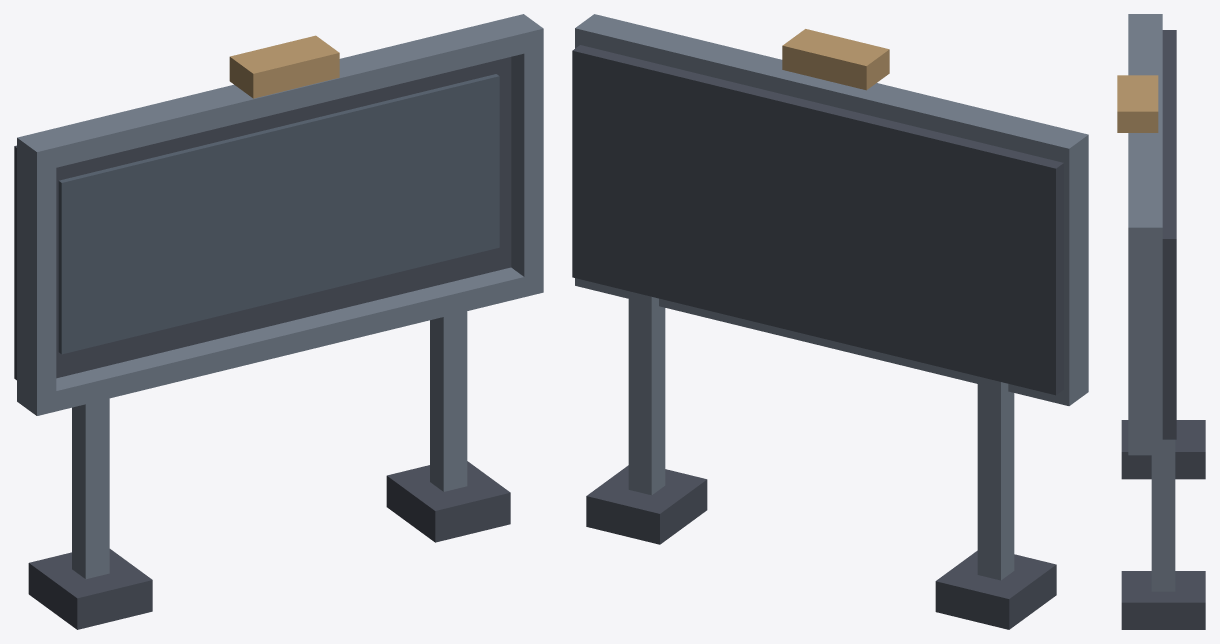
The model's file is gotham_billboard.glb.
3 renders of one model, left to right at view 1: azimuth 30°, elevation 25°; view 2: azimuth 150°, elevation 25°; view 3: azimuth 270°, elevation 25°, orthographic. The views are drawn at different scales.
Visible parts, largest first — view 1: Billboard_Display, Billboard back, Billboard horizontal frame.001, Billboard horizontal frame, Billboard vertical frame, Billboard vertical frame.001, Billboard foot, Billboard support, Billboard foot.001, Billboard support.001, Billboard top light; view 2: Billboard back, Billboard horizontal frame.001, Billboard support, Billboard support.001, Billboard vertical frame, Billboard foot, Billboard foot.001, Billboard top light, Billboard horizontal frame; view 3: Billboard vertical frame.001, Billboard horizontal frame.001, Billboard back, Billboard foot.001, Billboard support.001, Billboard foot, Billboard top light, Billboard horizontal frame.
Part boxes in pixels (<box>): Billboard_Display: <box>58,74,499,354</box>; Billboard back: <box>14,57,511,380</box>; Billboard horizontal frame.001: <box>17,14,543,171</box>; Billboard horizontal frame: <box>17,267,543,415</box>; Billboard vertical frame: <box>17,142,56,411</box>; Billboard vertical frame.001: <box>511,35,543,292</box>; Billboard foot: <box>28,549,152,629</box>; Billboard support: <box>72,398,109,579</box>; Billboard foot.001: <box>386,461,510,542</box>; Billboard support.001: <box>430,311,467,491</box>; Billboard top light: <box>229,35,339,98</box>; Billboard back: <box>572,45,1063,395</box>; Billboard horizontal frame.001: <box>575,14,1088,167</box>; Billboard support: <box>977,376,1014,580</box>; Billboard support.001: <box>628,291,665,495</box>; Billboard vertical frame: <box>1050,139,1088,401</box>; Billboard foot: <box>935,550,1056,629</box>; Billboard foot.001: <box>586,465,707,544</box>; Billboard top light: <box>782,29,889,90</box>; Billboard horizontal frame: <box>575,278,1088,405</box>; Billboard vertical frame.001: <box>1128,231,1162,451</box>; Billboard horizontal frame.001: <box>1128,14,1162,244</box>; Billboard back: <box>1162,30,1176,439</box>; Billboard foot.001: <box>1121,571,1205,629</box>; Billboard support.001: <box>1151,439,1175,591</box>; Billboard foot: <box>1121,420,1205,479</box>; Billboard top light: <box>1117,75,1158,132</box>; Billboard horizontal frame: <box>1128,438,1162,455</box>.
Bounding box in the file's own units: 2.35 × 2.29 × 0.41.
